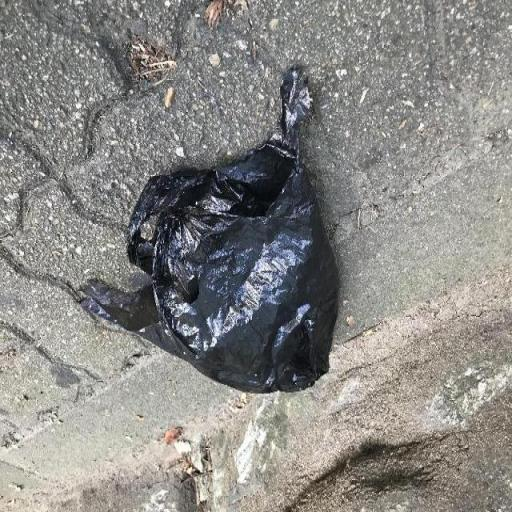plastic-bag: (77, 64, 344, 400)
